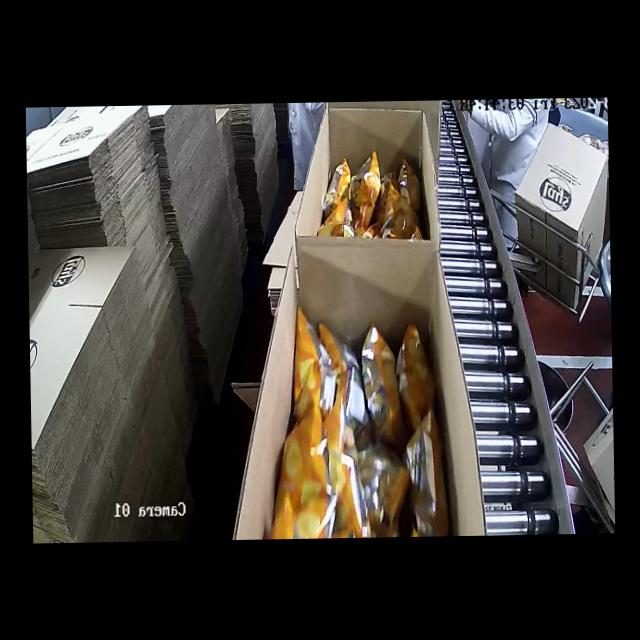cheese: (263, 306, 433, 539), (317, 151, 410, 248)
